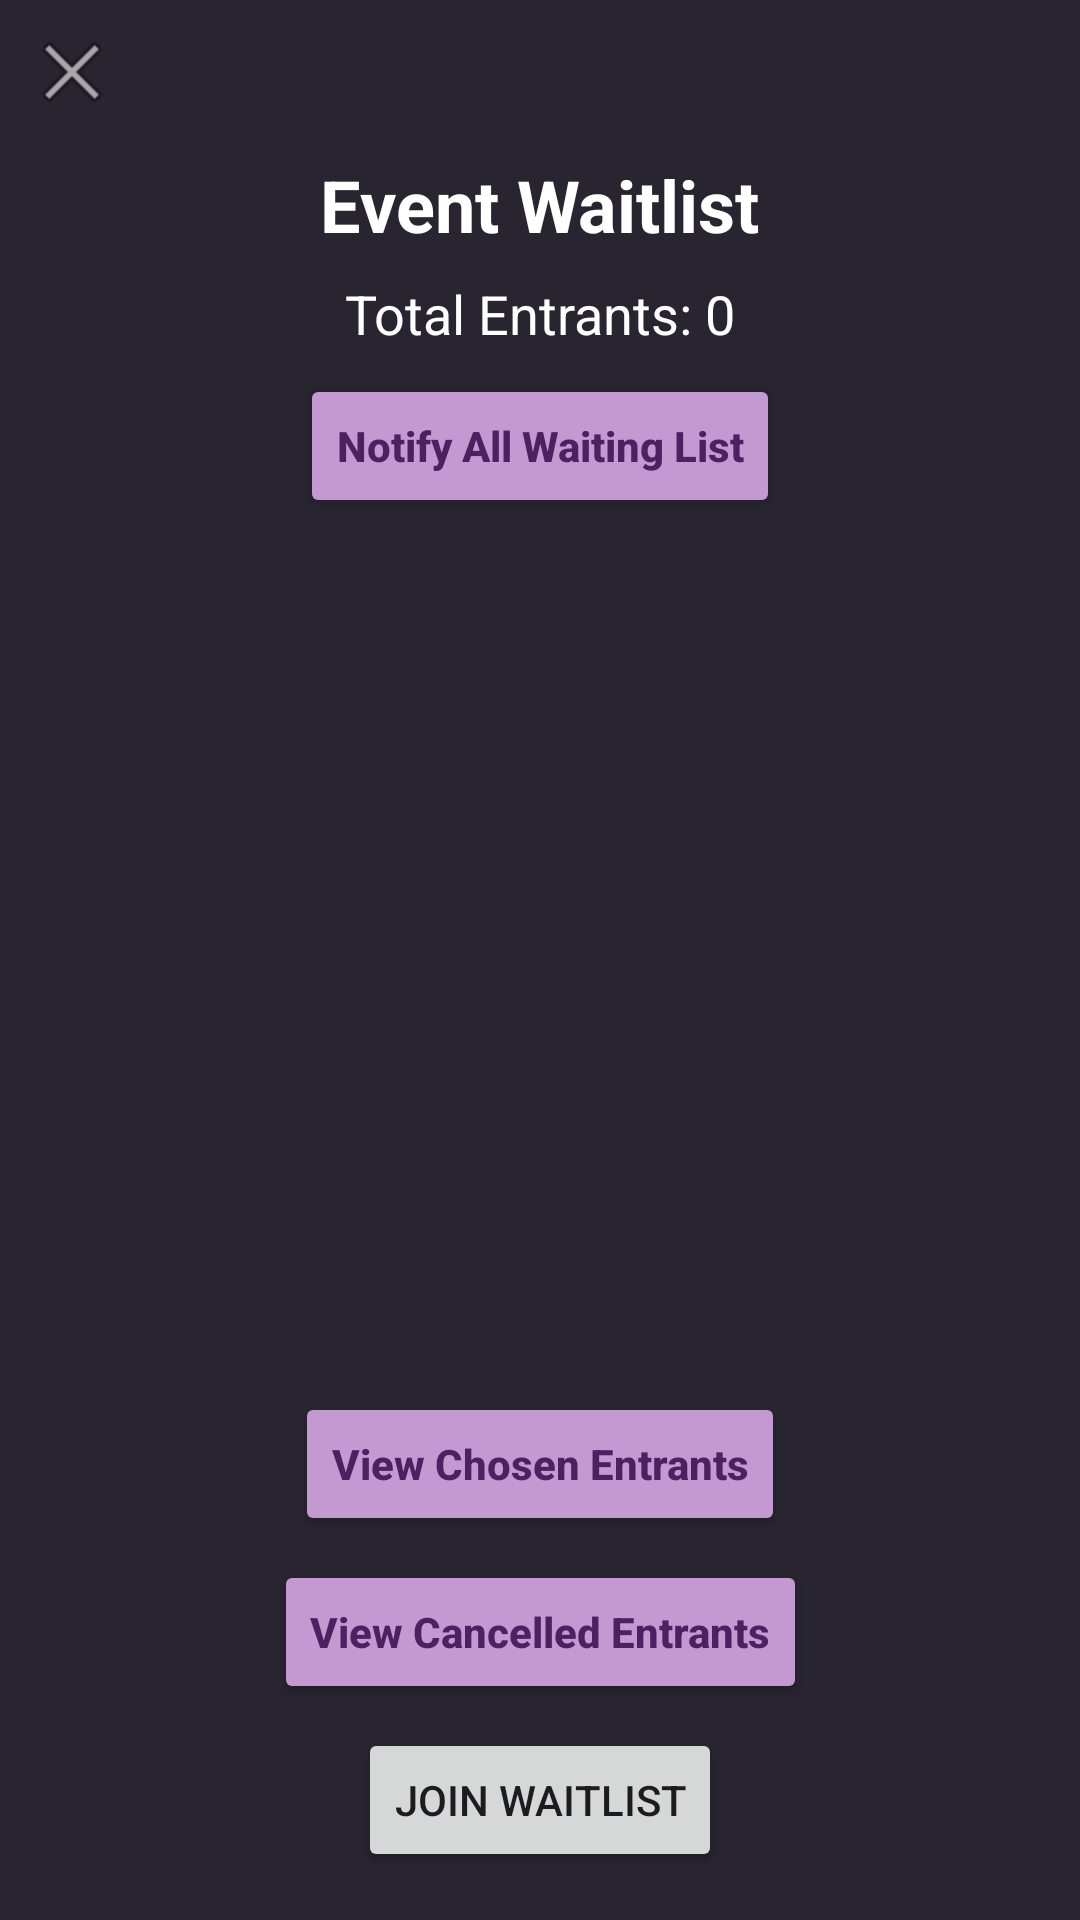

Point at icon controls on the screen. Image size 1080*1920, points as (x,y).
close clear cancel: (72,72)
